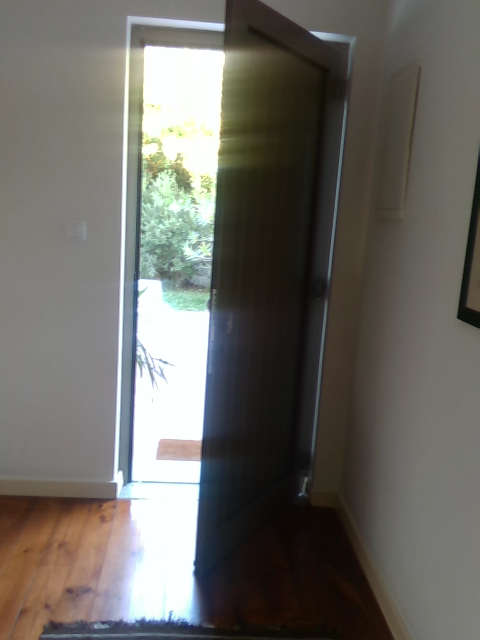semi: (118, 6, 350, 577)
